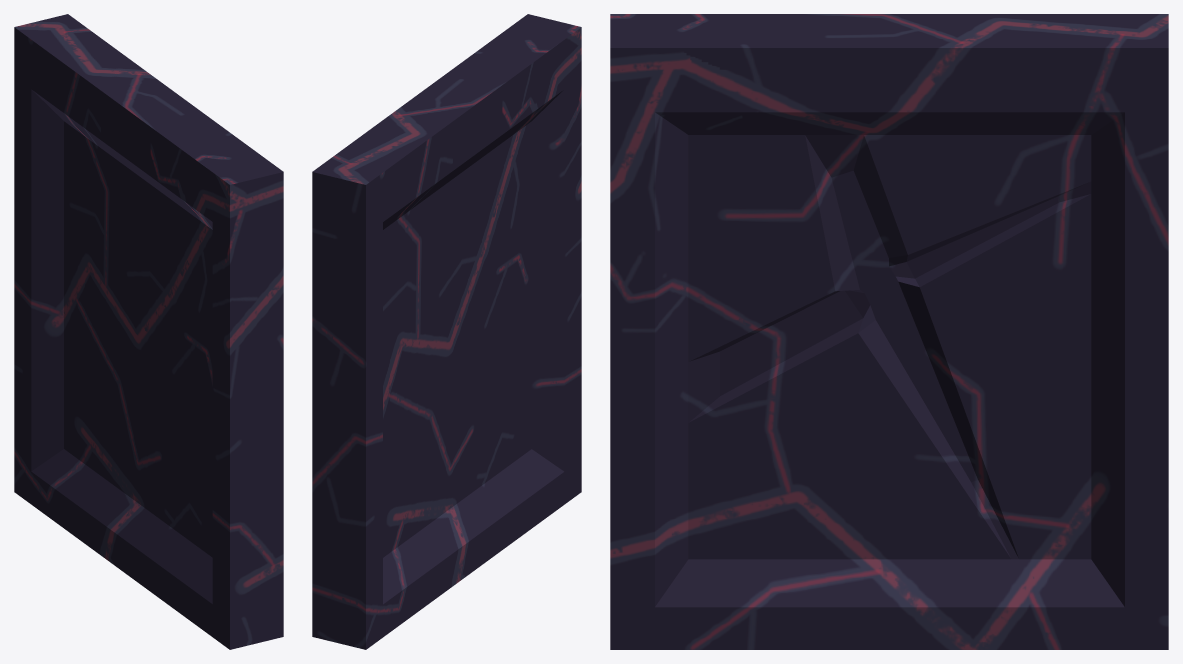
The model's file is Wall_Broken.obj.
3 views of the same model, side by side, from view 1: azimuth 30°, elevation 25°; view 2: azimuth 150°, elevation 25°; view 3: azimuth 270°, elevation 25° (orthographic). The views are drawn at different scales.
Parts seen in each view (by area): view 1: Wall_B pan Baseextra Tenple; view 2: Wall_B pan Baseextra Tenple; view 3: Wall_B pan Baseextra Tenple.
Boxes of the visible parts, x1,y1,x2,y2 form: Wall_B pan Baseextra Tenple: (14,14,283,649); Wall_B pan Baseextra Tenple: (312,14,581,649); Wall_B pan Baseextra Tenple: (610,14,1168,649).
Bounding box in the file's own units: 0.8942 × 7.39 × 6.21.
Materials: 1 (1 with a texture image).
